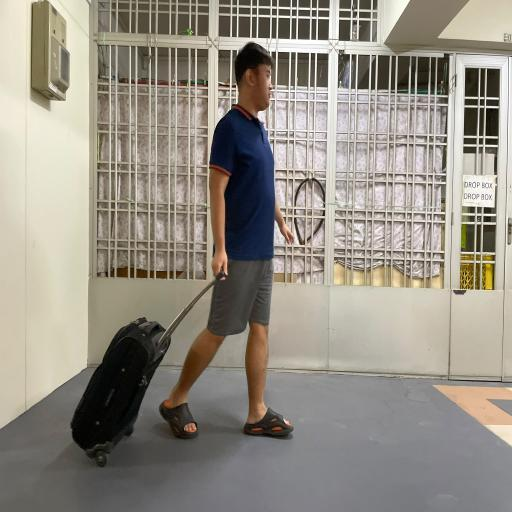person_right: (70, 32, 298, 475)
